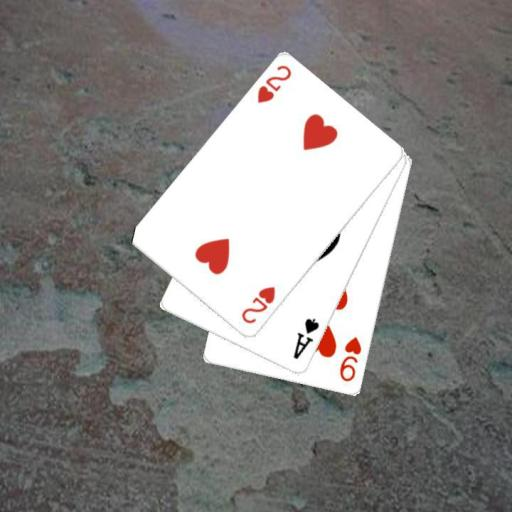2H: (238, 283, 278, 326), (254, 62, 293, 105)
9H: (337, 334, 364, 384)
AS: (290, 316, 321, 361)
